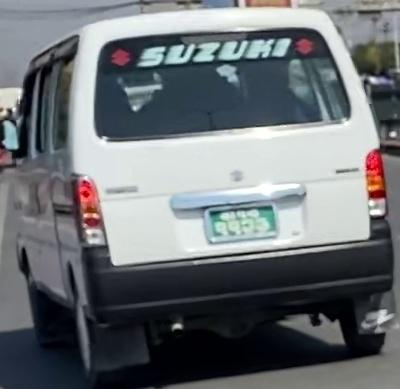license-plate: (205, 202, 288, 245)
